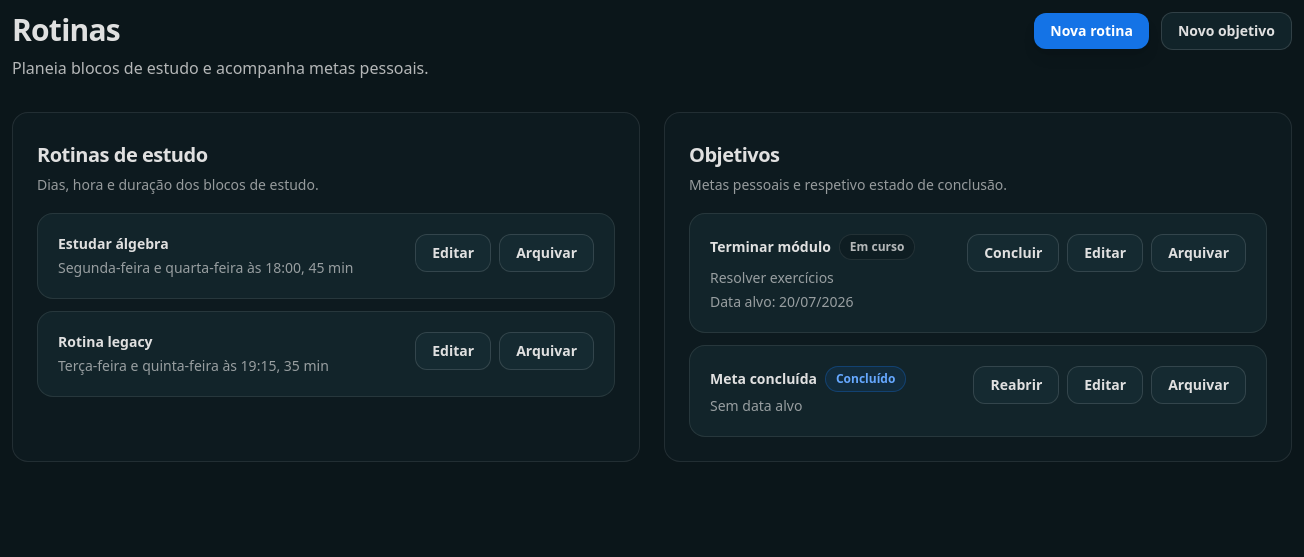
Test: RoutinesPage › apresenta o erro público sem perder os dados carregados
Click the button "Arquivar" in the row of "45" at (547,253), box [499, 234, 594, 272]
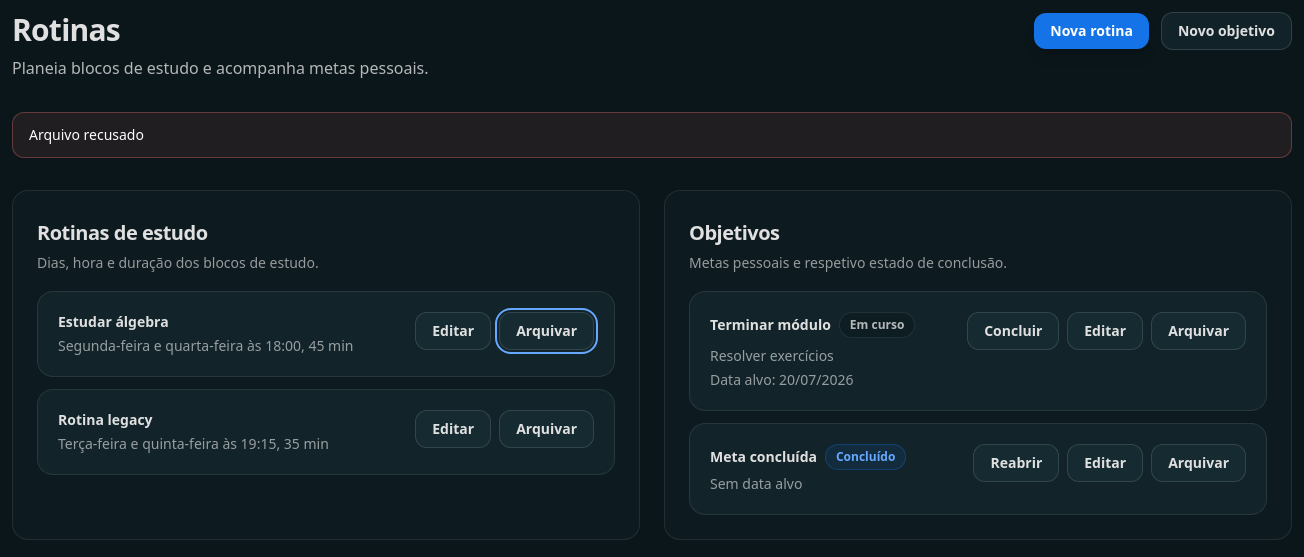
Expected: the text "Estudar álgebra" is shown, [58, 312, 169, 331]
Expected: the text "Arquivo recusado" is shown, [12, 112, 1292, 158]
